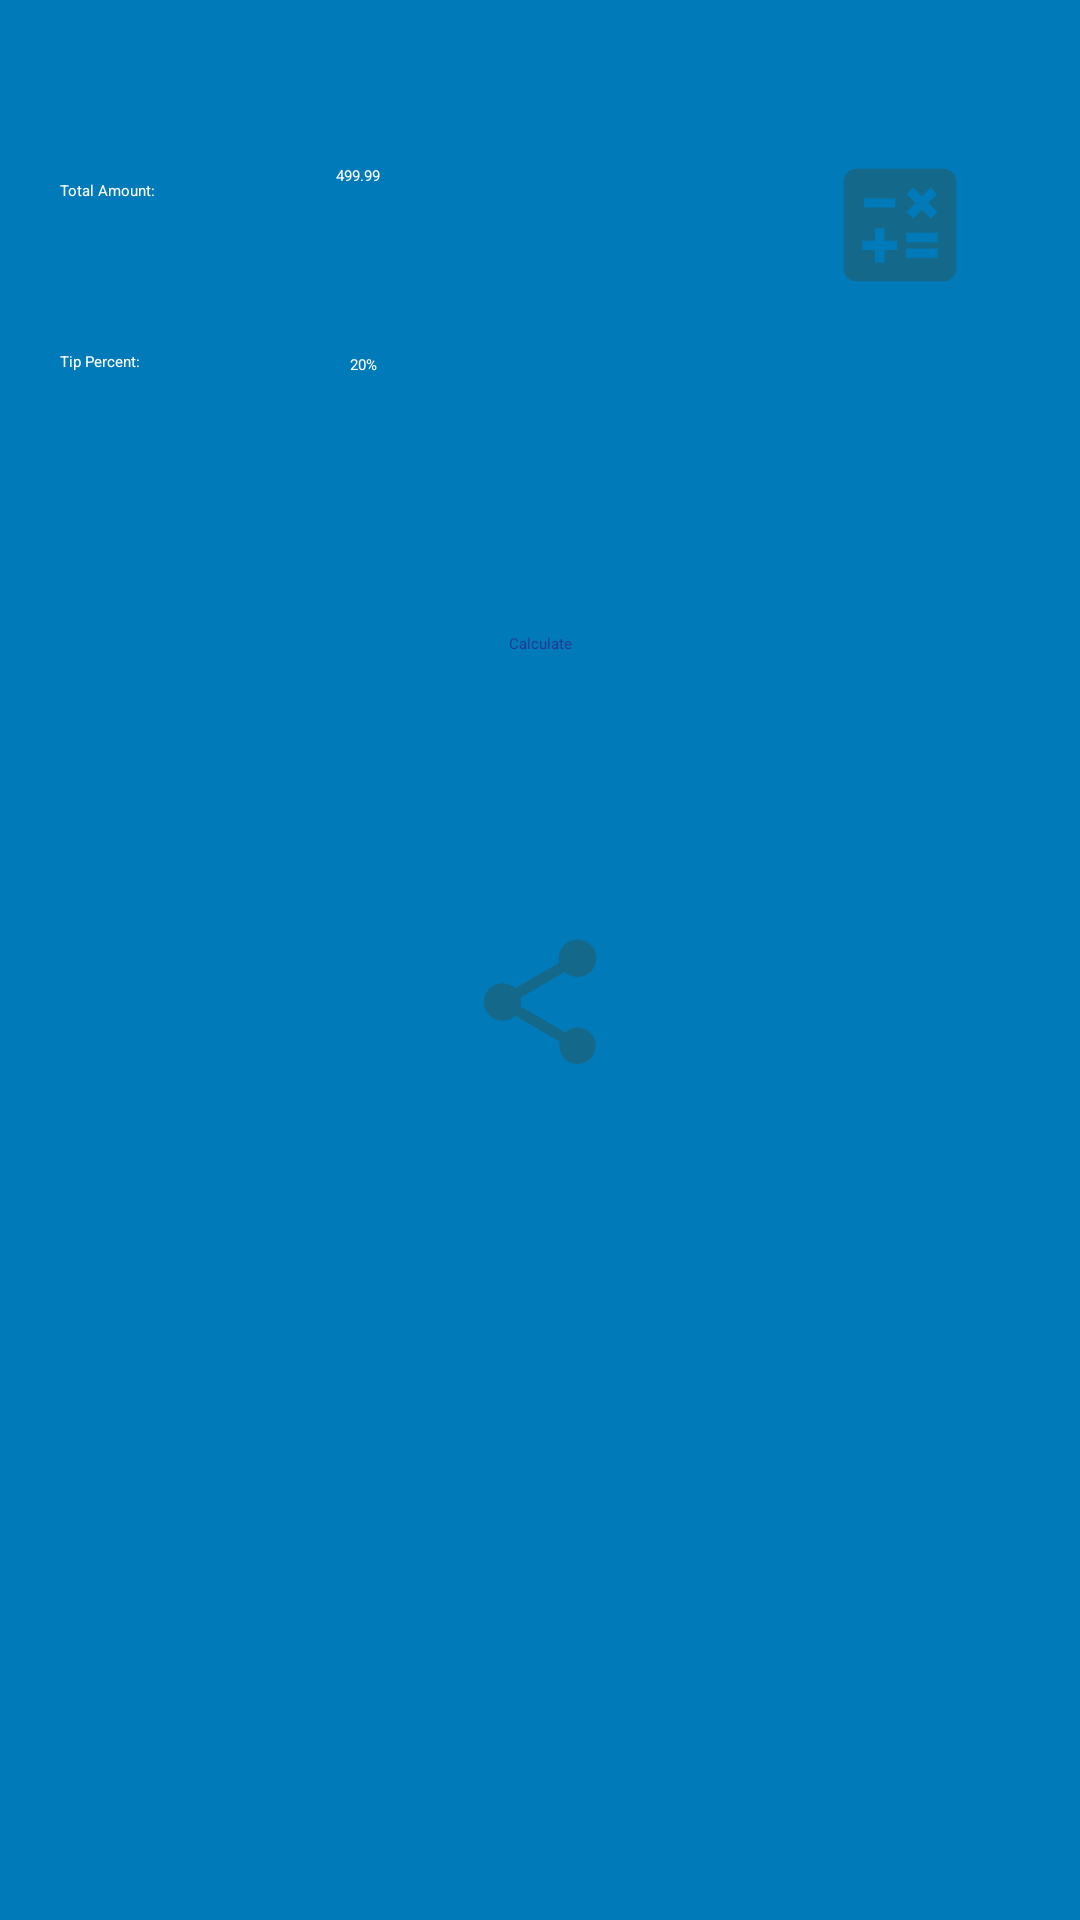

Icon bounding boxes for this 1080x1920 phone screenshot, format (x1, y1, x2, y2):
Calculate: (844, 169, 956, 281)
Share: (484, 940, 596, 1064)
